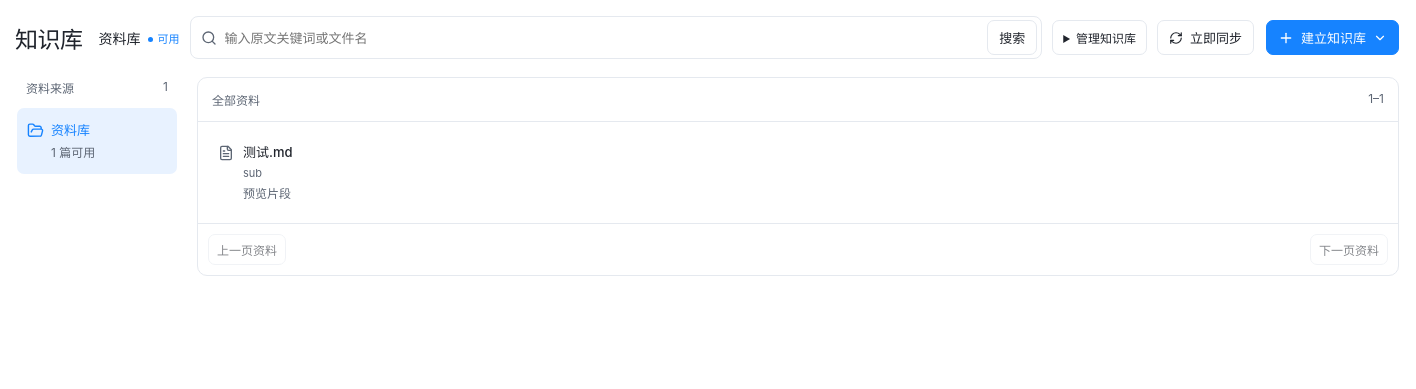
Test: browse exact source and detach without a file-delete action
The width and height of the screenshot is (1416, 389).
Click the button with aria-label "sub/测试.md": (268, 152) x1=208 y1=132 x2=1373 y2=213
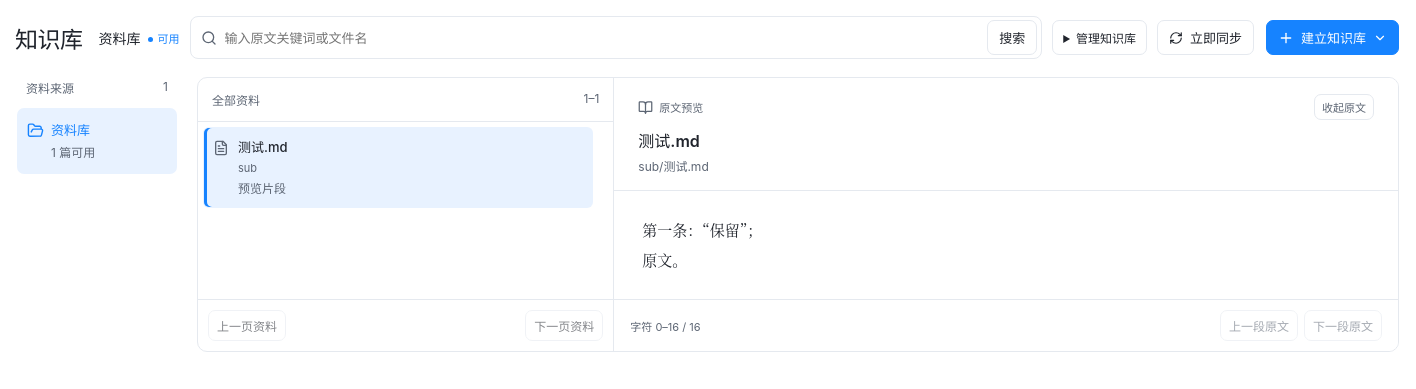
Click the heading "管理知识库": (1100, 38) x1=1052 y1=20 x2=1147 y2=55
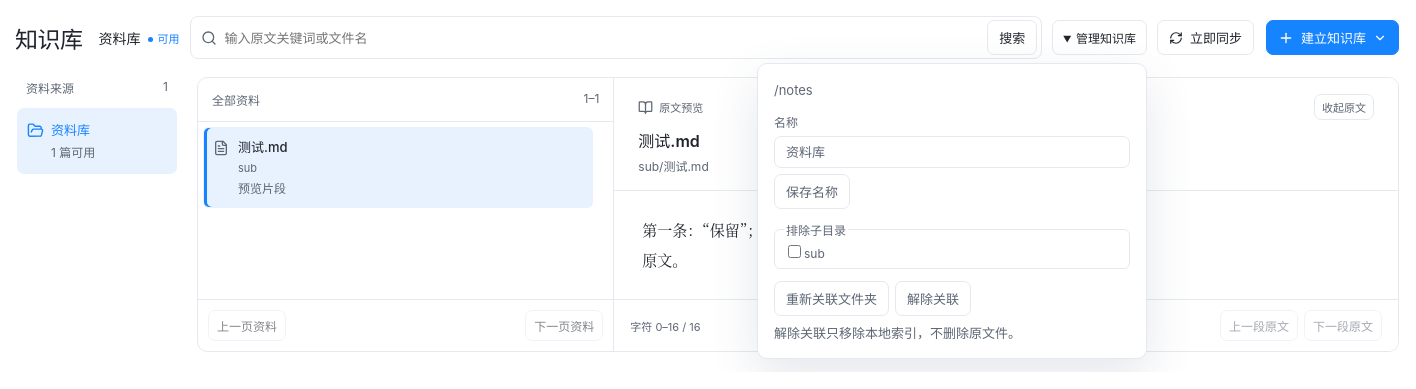
Click the button "解除关联": (933, 299) x1=895 y1=282 x2=971 y2=316
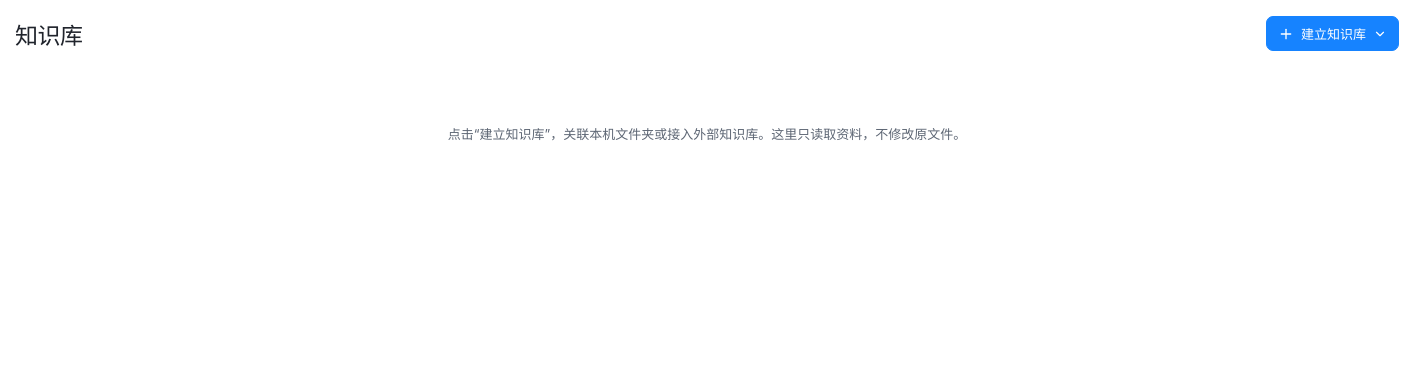
Result: the text "点击“建立知识库”，关联本机文件夹或接入外部知识库。这里只读取资料，不修改原文件。" is shown at x1=448 y1=126 x2=966 y2=142
